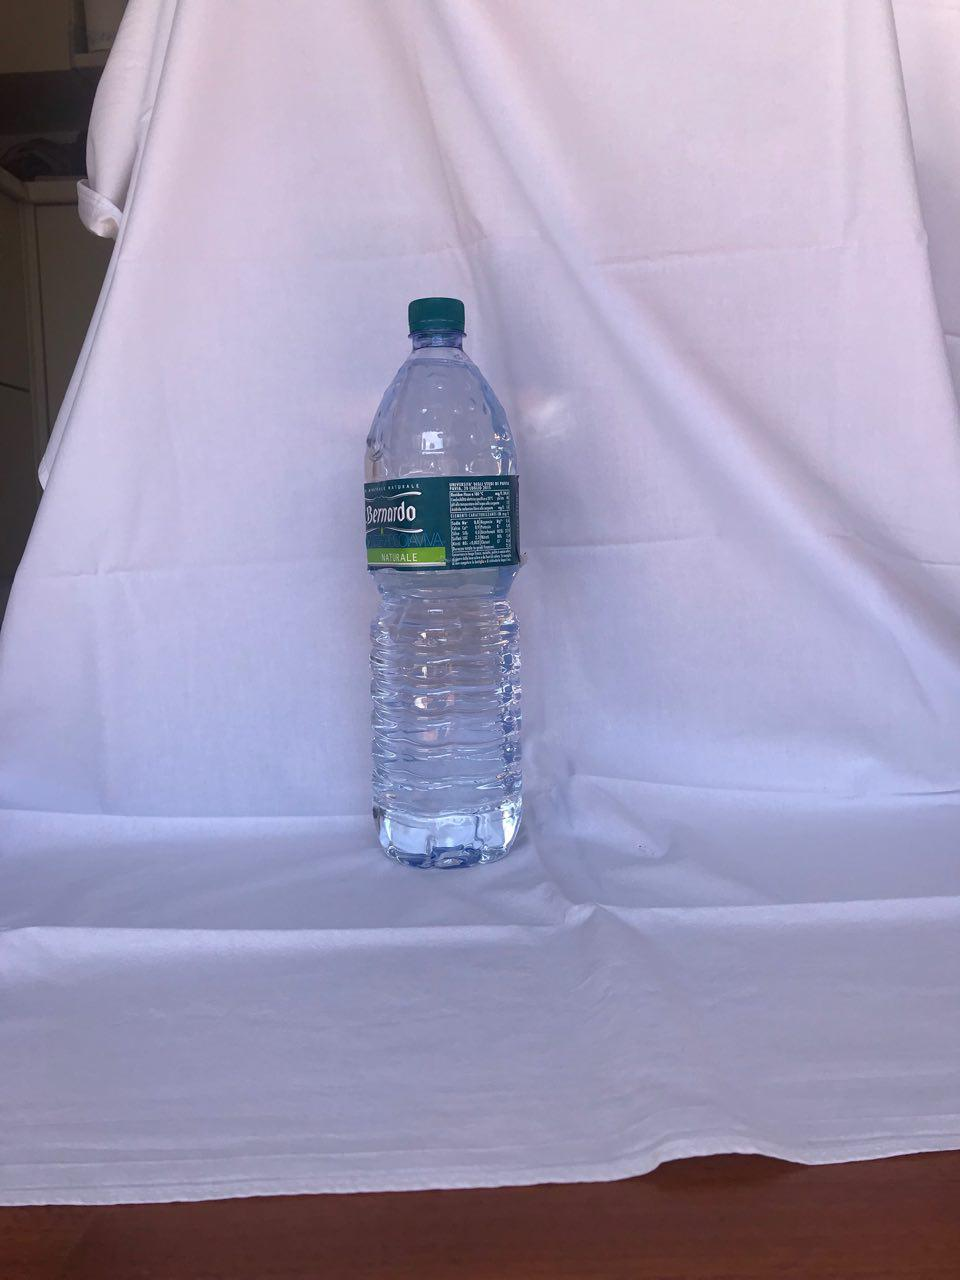san_bernardo: (361, 295, 524, 870)
